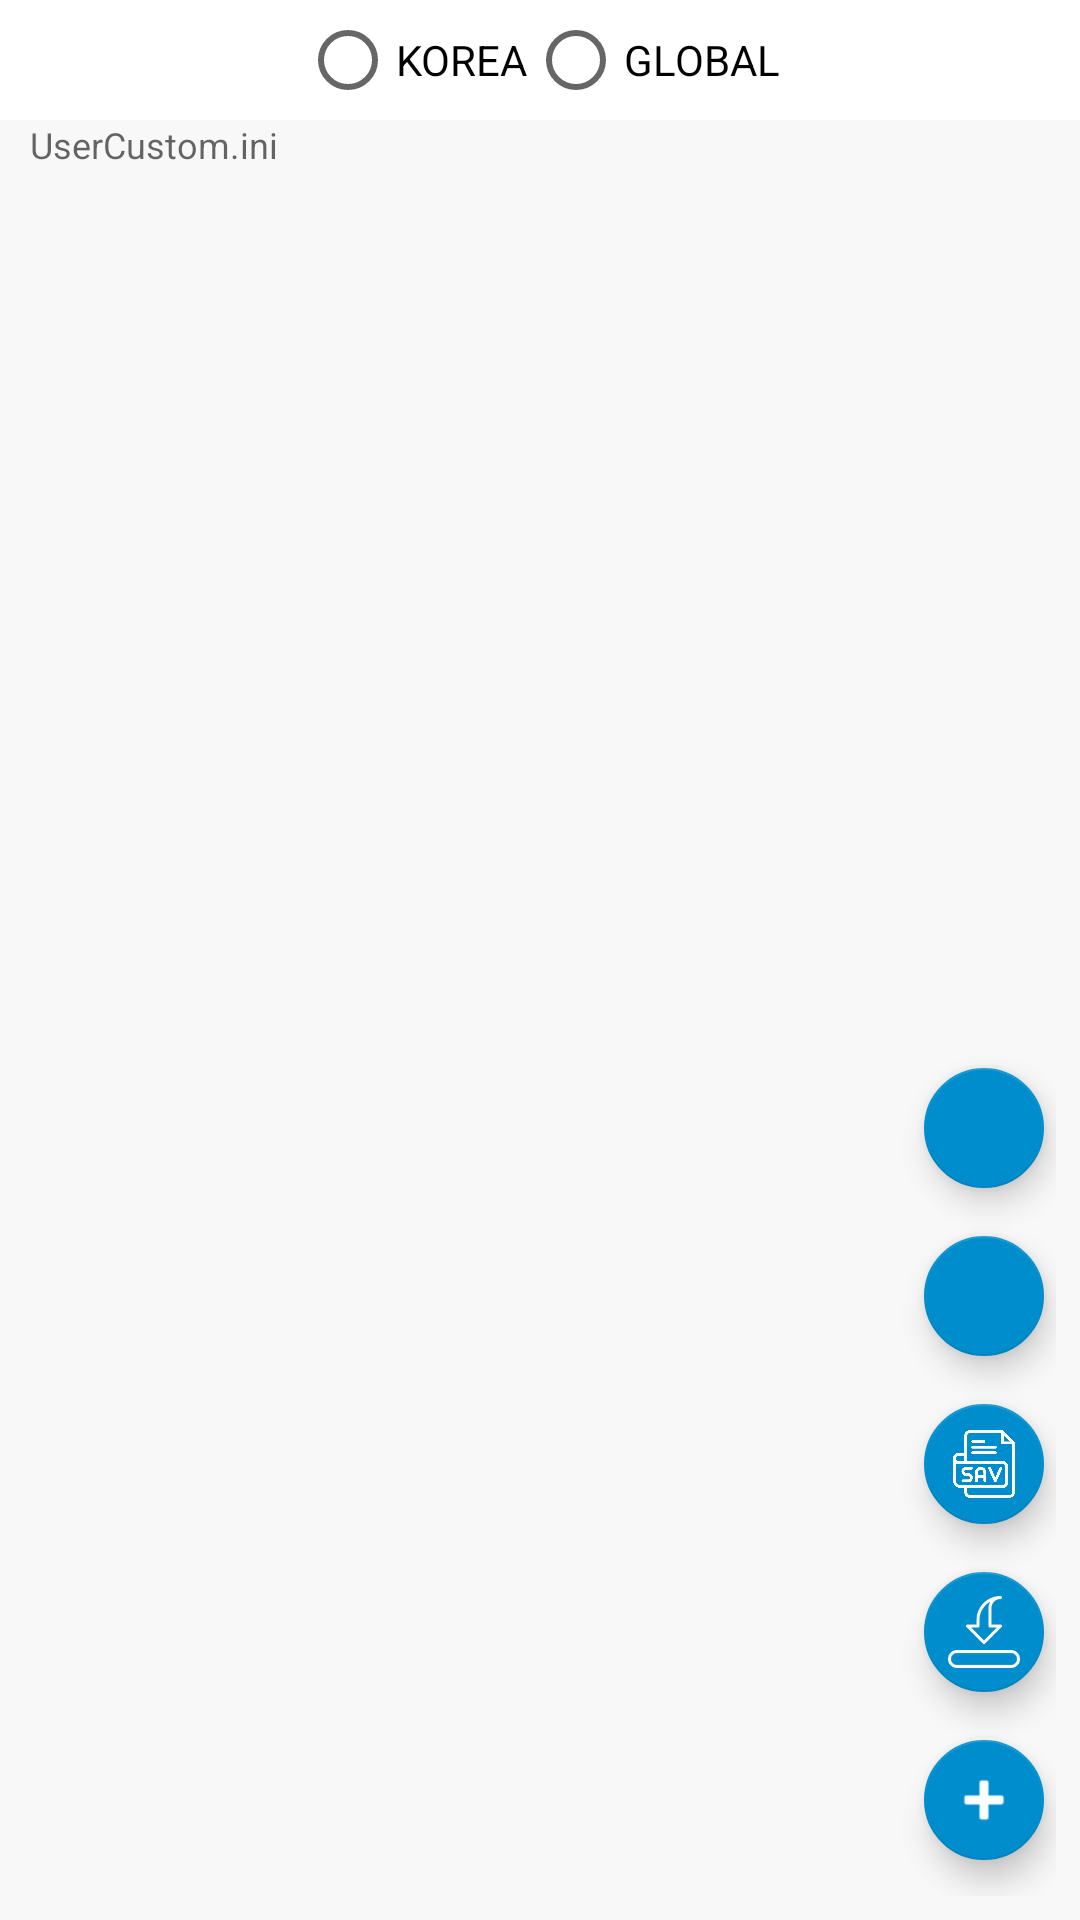

Point at icon controls on the screen. Image size 1080px x 1920px, points as (x=x, y=y).
add: (x=984, y=1806)
load: (x=985, y=1638)
